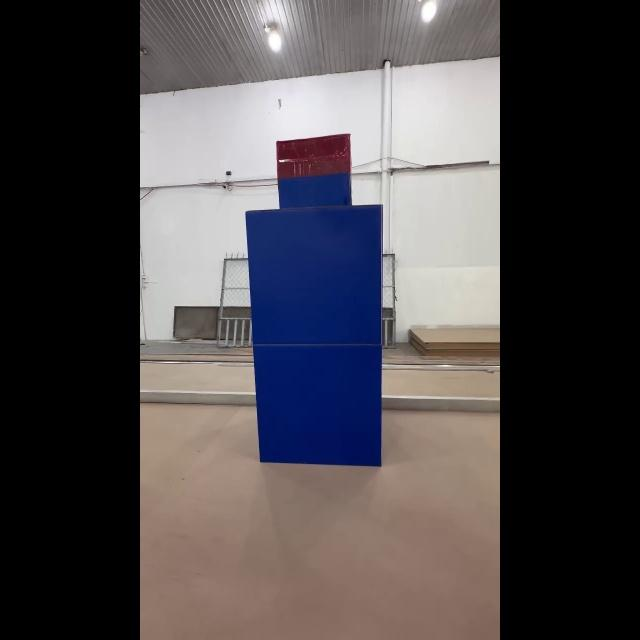earth_block: (244, 205, 385, 342), (252, 339, 382, 466)
sky_block: (274, 134, 353, 208)
